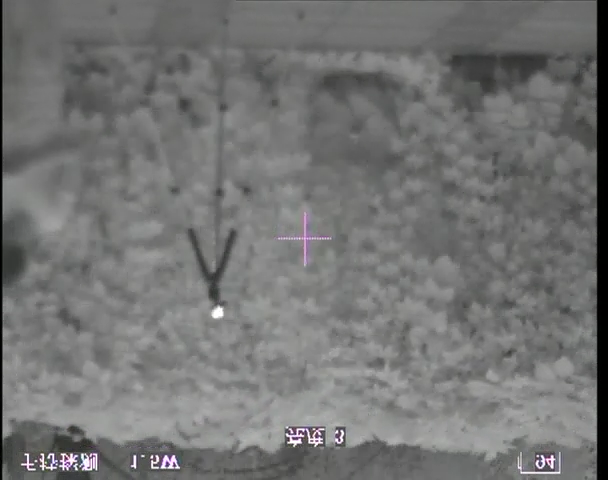my: (209, 304, 224, 320)
